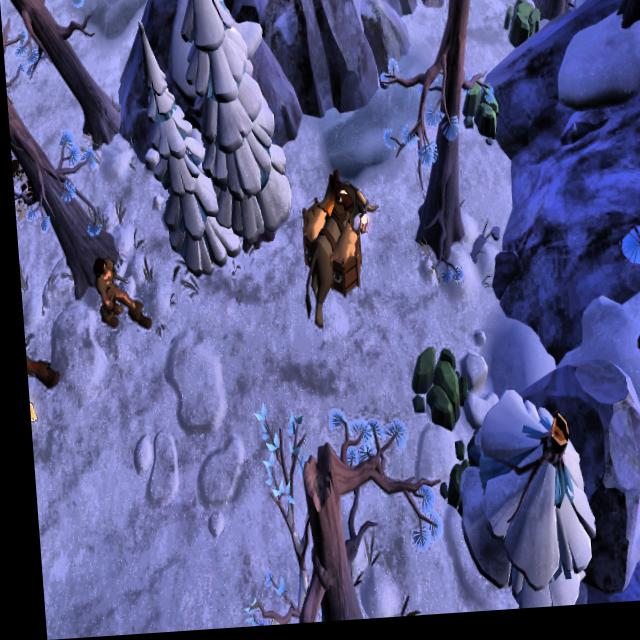enemy_factionKeeper: (90, 249, 141, 337)
ore_t3: (427, 0, 441, 2)
rock_t3: (400, 345, 468, 436), (430, 439, 477, 526), (455, 80, 500, 151), (502, 0, 545, 60)
